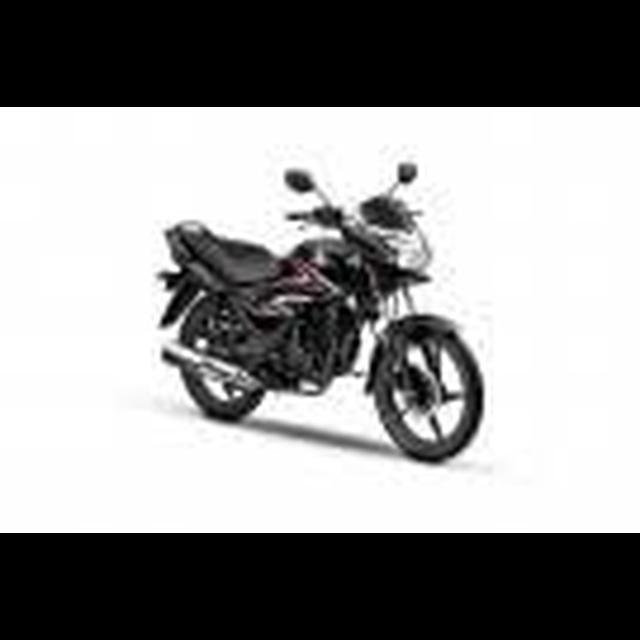motorcycle: (151, 155, 489, 469)
